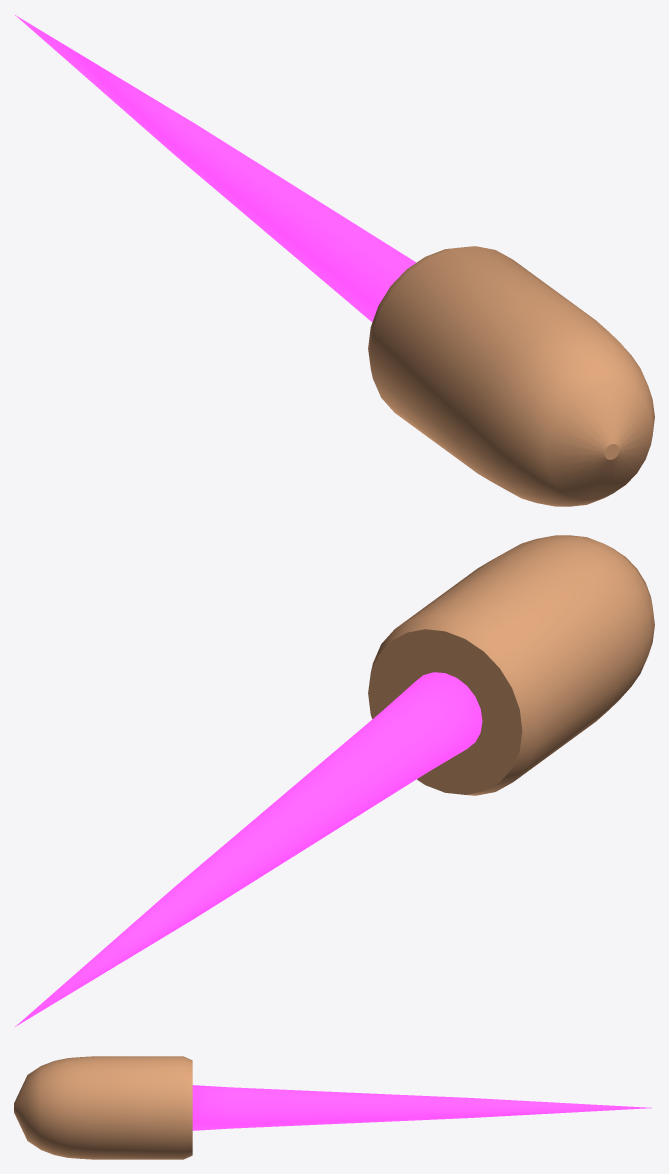
The model's file is Blaster_Bolt.fbx.
3 renders of one model, top to bottom at view 1: azimuth 30°, elevation 25°; view 2: azimuth 150°, elevation 25°; view 3: azimuth 270°, elevation 25°, orthographic. The views are drawn at different scales.
Parts seen in each view (by area): view 1: Bolt_Bala_Pistola, Bolt_Estela_Halo_Estandar; view 2: Bolt_Bala_Pistola, Bolt_Estela_Halo_Estandar; view 3: Bolt_Bala_Pistola, Bolt_Estela_Halo_Estandar.
Boxes of the visible parts, box(x1,y1,x2,y2) form: Bolt_Bala_Pistola: box(368, 246, 654, 506); Bolt_Estela_Halo_Estandar: box(15, 15, 416, 322); Bolt_Bala_Pistola: box(368, 535, 654, 795); Bolt_Estela_Halo_Estandar: box(15, 672, 482, 1026); Bolt_Bala_Pistola: box(14, 1056, 192, 1159); Bolt_Estela_Halo_Estandar: box(192, 1085, 651, 1130).
Size of the model in its own units: 4.5 by 4.5 by 27.79.
